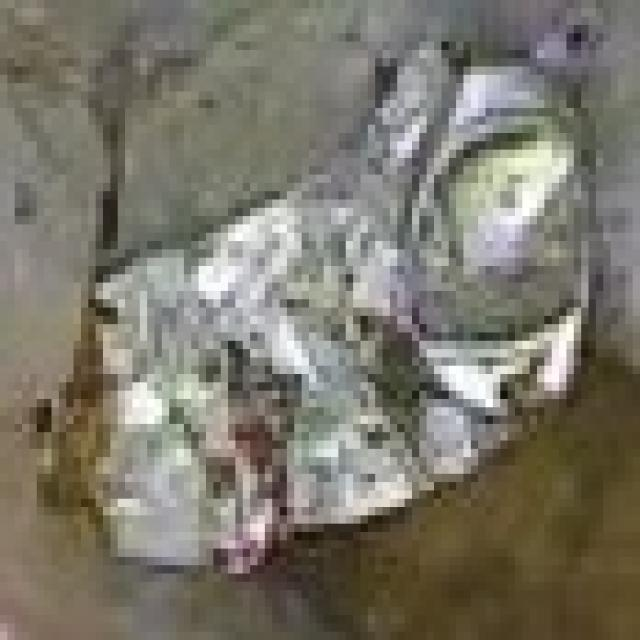can: (45, 2, 592, 612)
